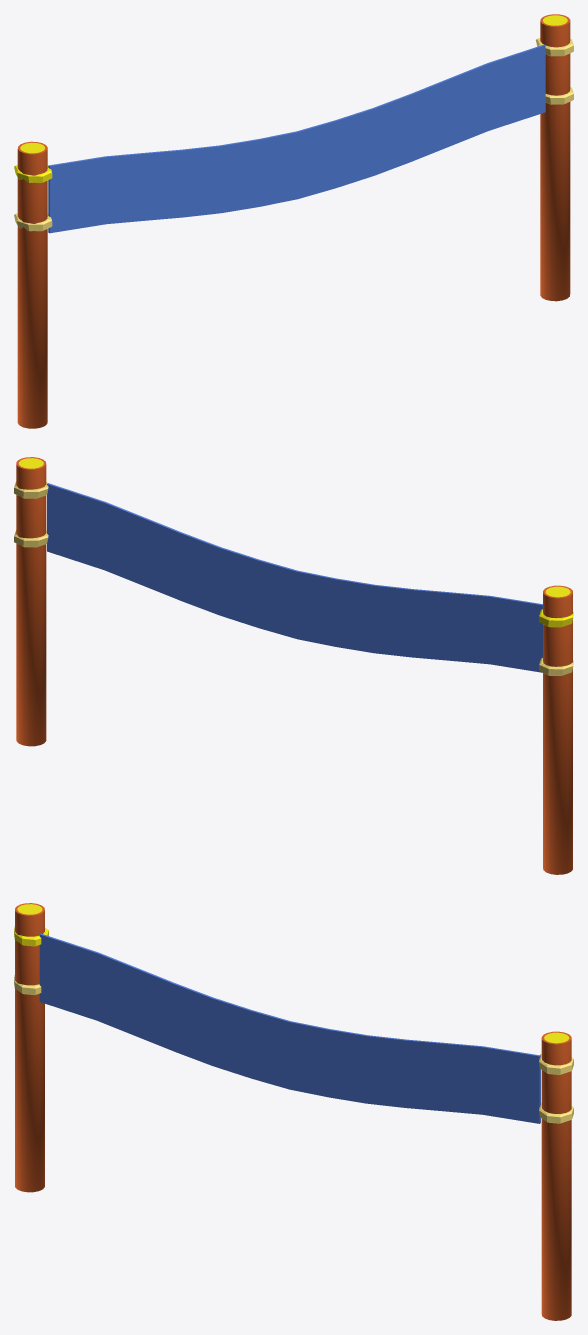
The model's file is Goalsign.fbx.
The picture shows the model from 3 angles, top to bottom: view 1: azimuth 30°, elevation 25°; view 2: azimuth 150°, elevation 25°; view 3: azimuth 330°, elevation 25°; orthographic projection.
Parts seen in each view (by area): view 1: Goalsign; view 2: Goalsign; view 3: Goalsign.
Part boxes in pixels (bbox=[...]): Goalsign: bbox=[14, 14, 573, 428]; Goalsign: bbox=[14, 457, 573, 874]; Goalsign: bbox=[14, 903, 573, 1320].
Size of the model in its own units: 20.76 by 1.22 by 9.82.
